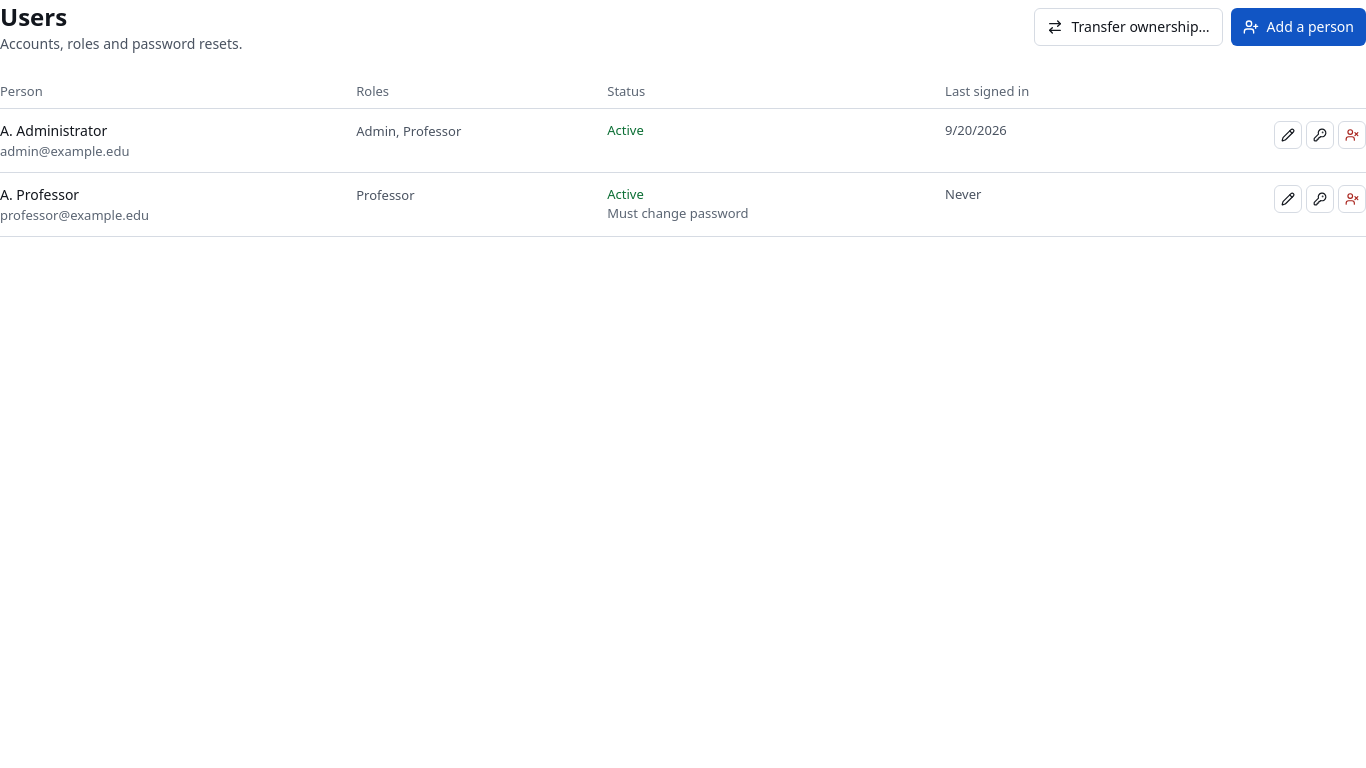
Test case: Transfer ownership… › previews four groups with counts and sentences, then confirms with a summary
The image size is (1366, 768).
Click the button "Transfer ownership…" at (1129,27), box left=1034, top=8, right=1223, bottom=46
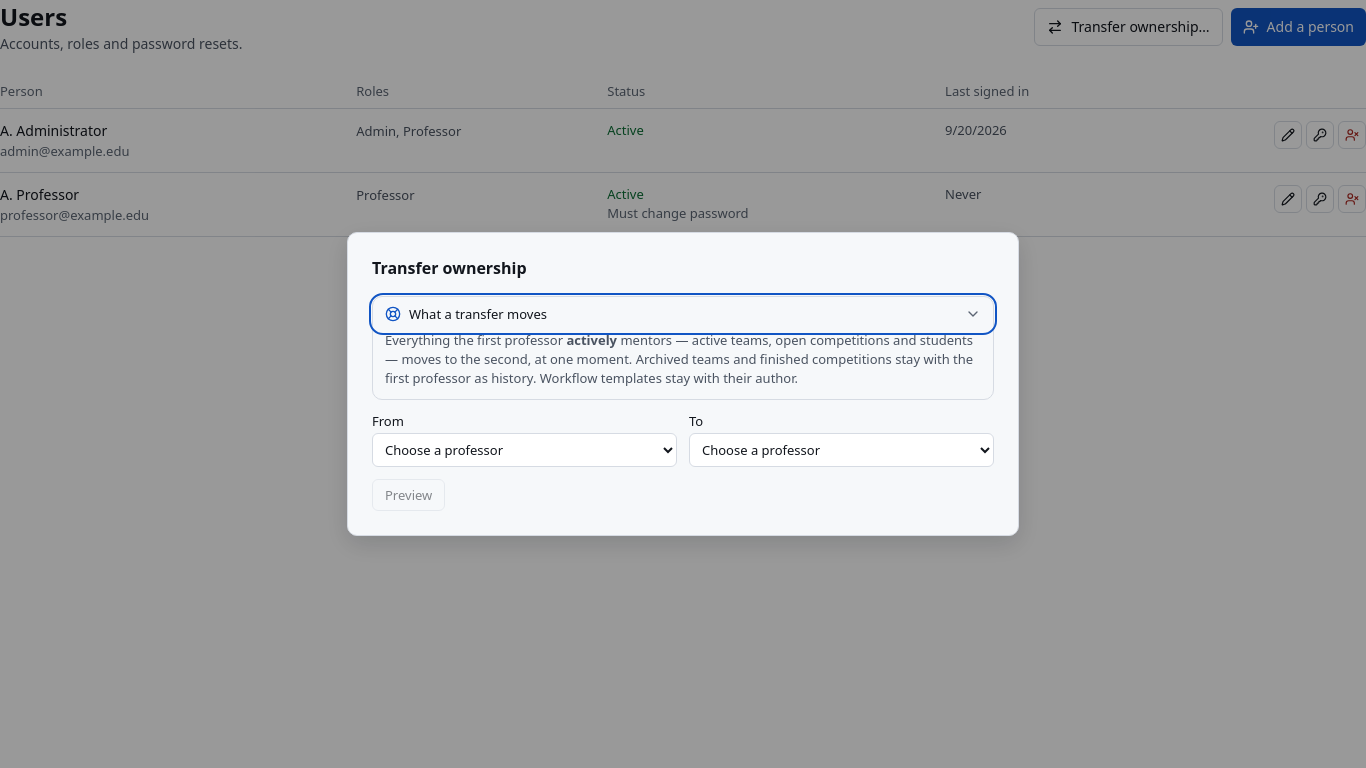
Select "A. Professor" in the dropdown labelled "From" at (524,450), box left=372, top=433, right=677, bottom=467
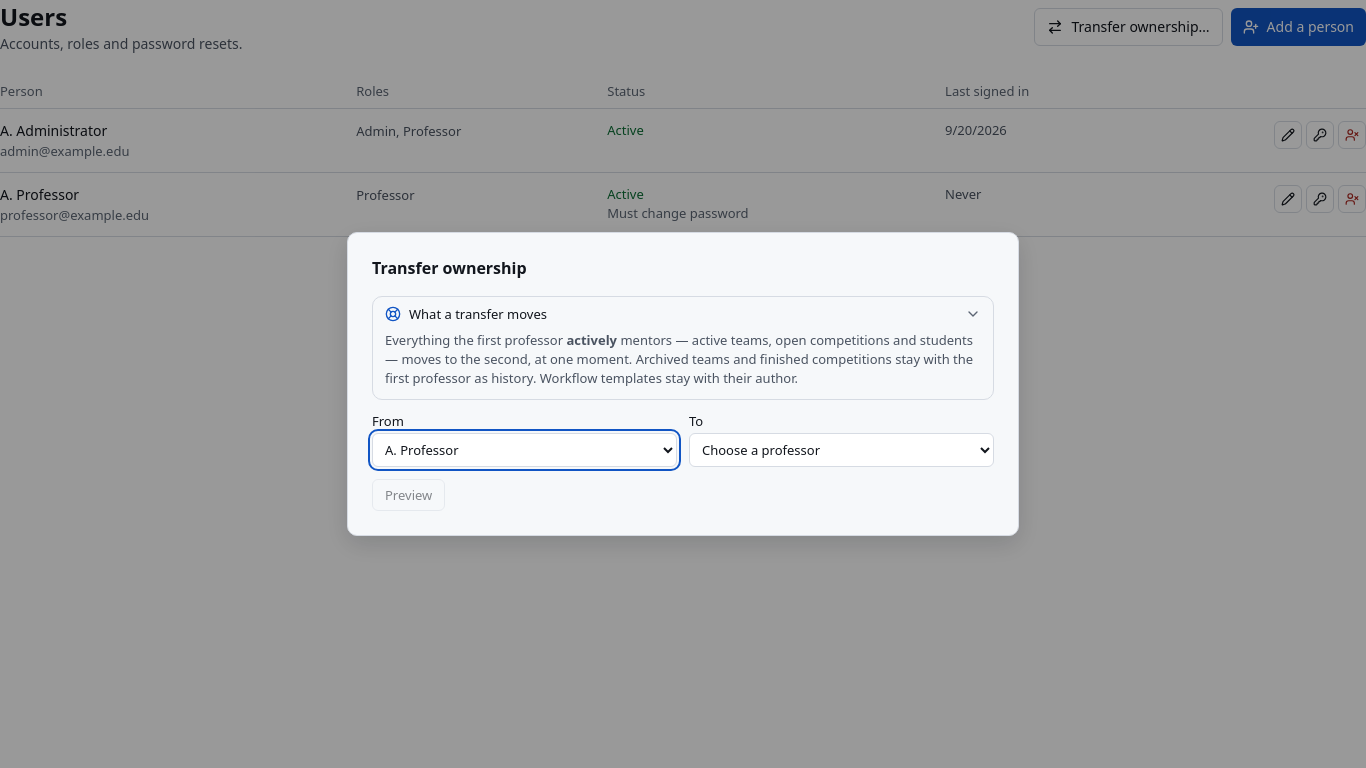
Select "A. Administrator" in the dropdown labelled "To" at (842,450), box left=689, top=433, right=994, bottom=467
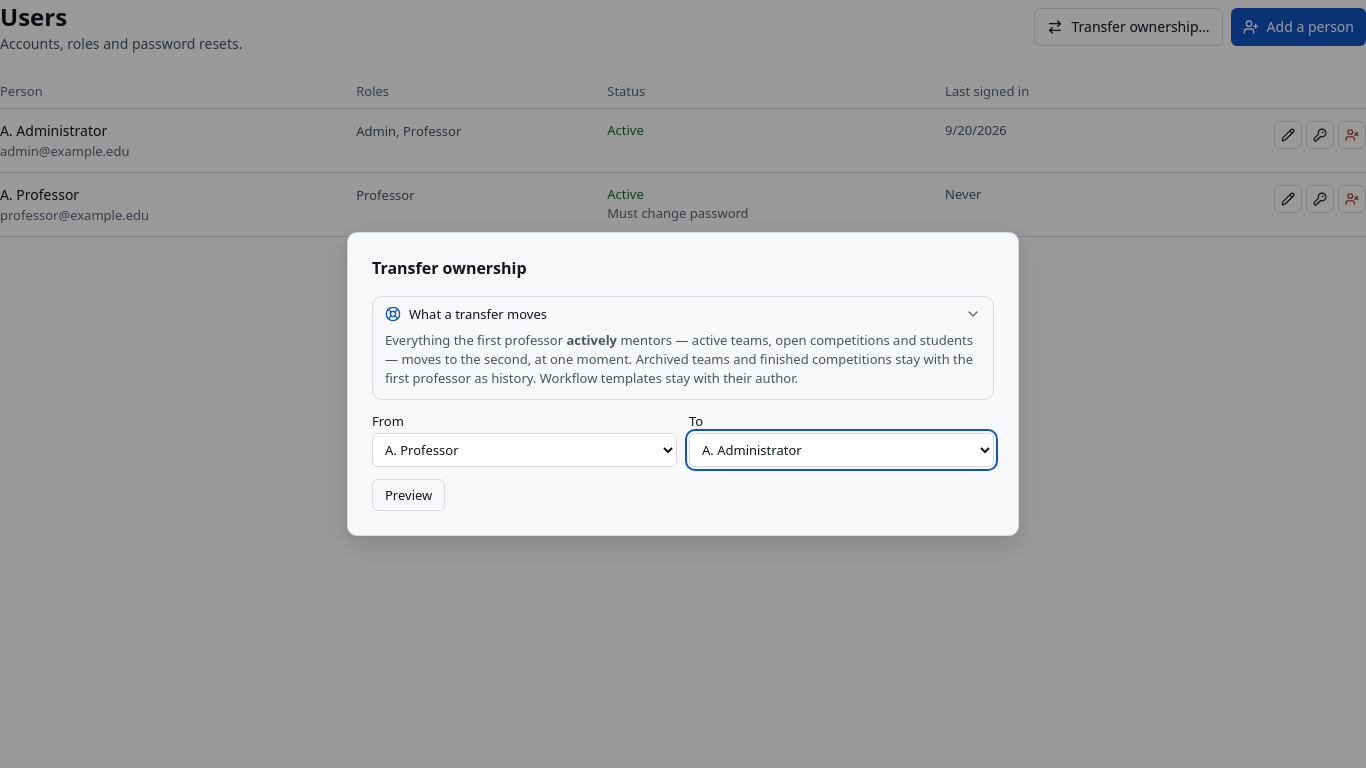
Click the button "Preview" at (409,495), box left=372, top=479, right=445, bottom=511
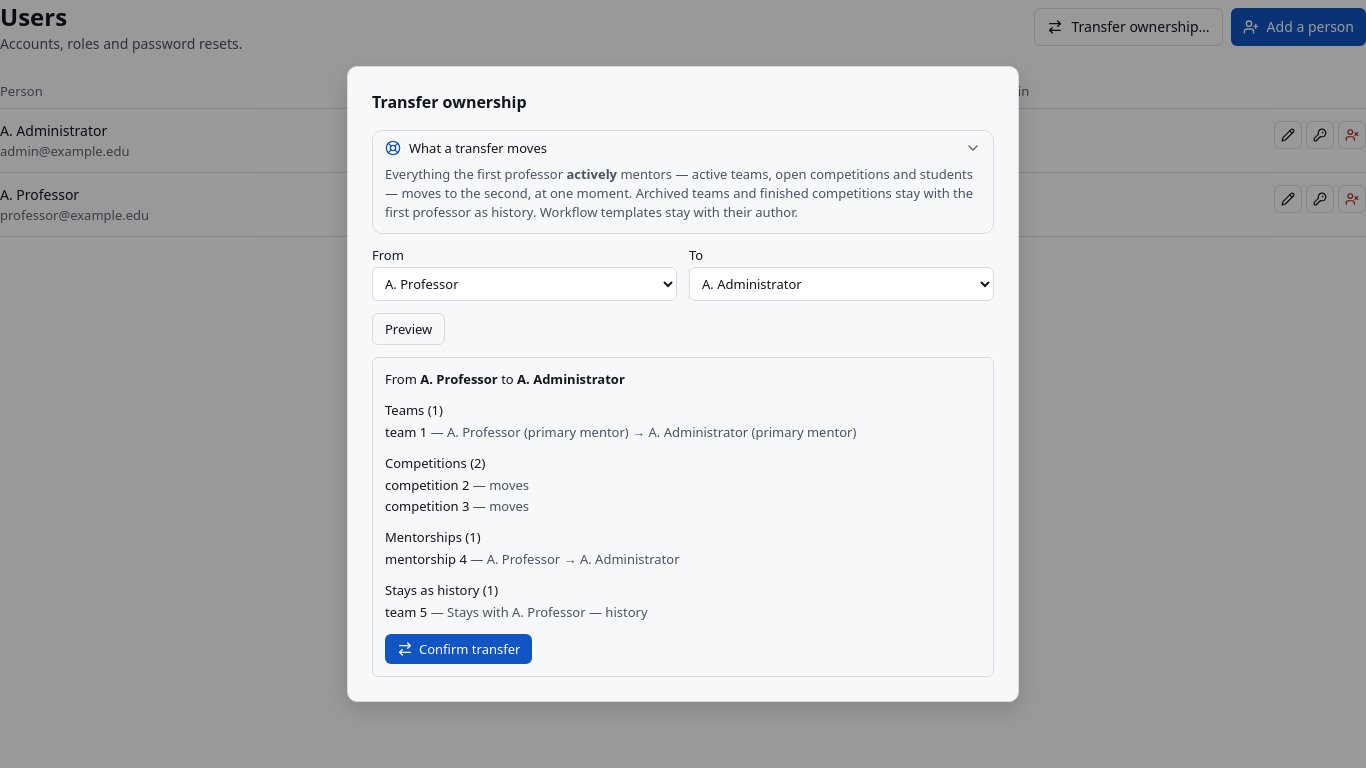
Result: the heading "Teams (1)" is shown at left=385, top=401, right=443, bottom=419
Result: the heading "Competitions (2)" is shown at left=385, top=454, right=485, bottom=472
Result: the heading "Mentorships (1)" is shown at left=385, top=528, right=480, bottom=546
Click the button "Confirm transfer" at (459,649), box left=385, top=634, right=532, bottom=664
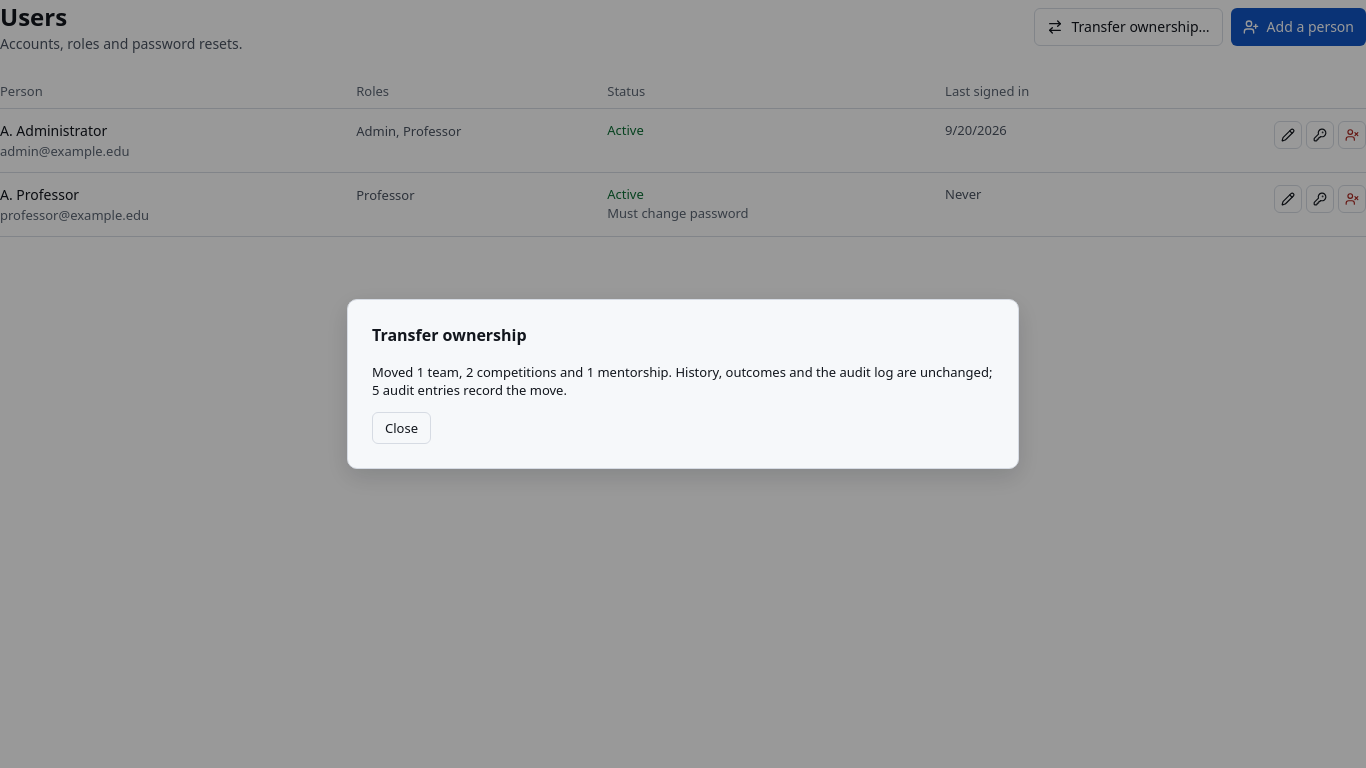
Result: the text "Moved 1 team, 2 competitions and 1 mentorship" is shown at left=372, top=363, right=994, bottom=400
